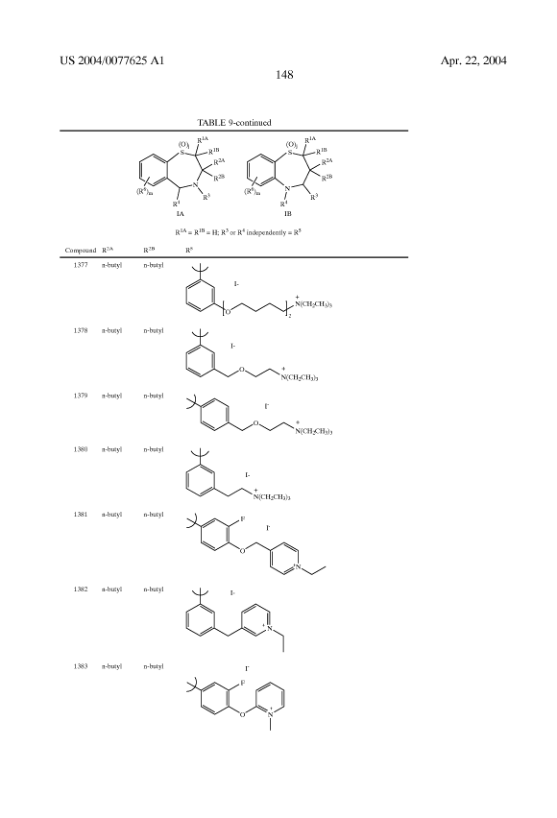compound-structure: (183, 513, 330, 579), (131, 133, 232, 223), (238, 133, 347, 216), (181, 261, 339, 317), (183, 325, 321, 388), (183, 588, 298, 653), (179, 668, 292, 732), (181, 446, 300, 503), (182, 394, 337, 436)
